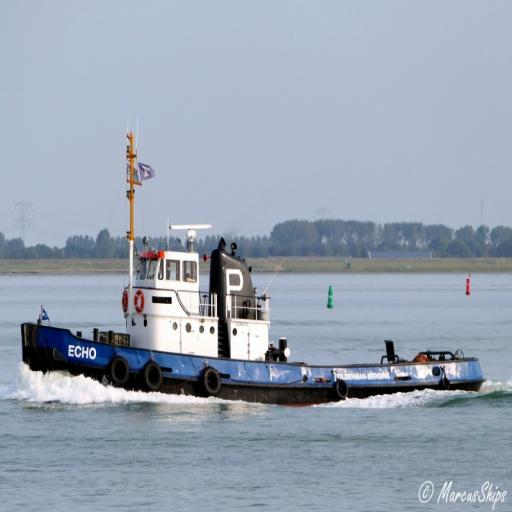tugboat: (19, 130, 490, 413)
